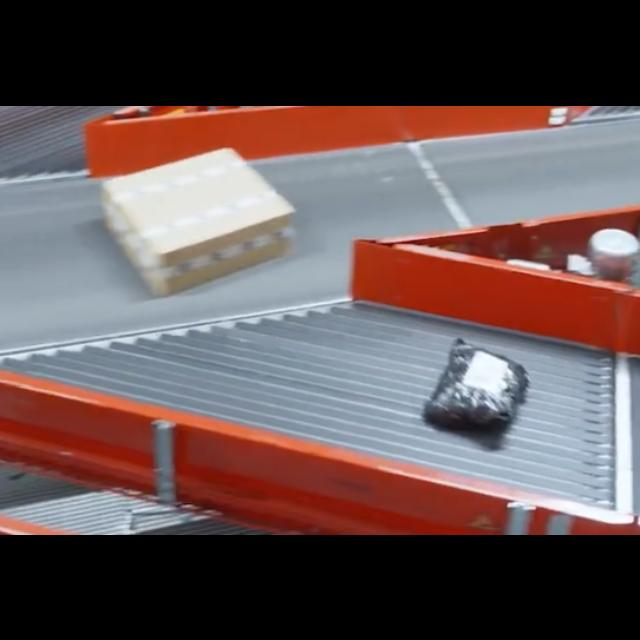box: (100, 146, 294, 294)
mailer: (428, 342, 530, 434)
